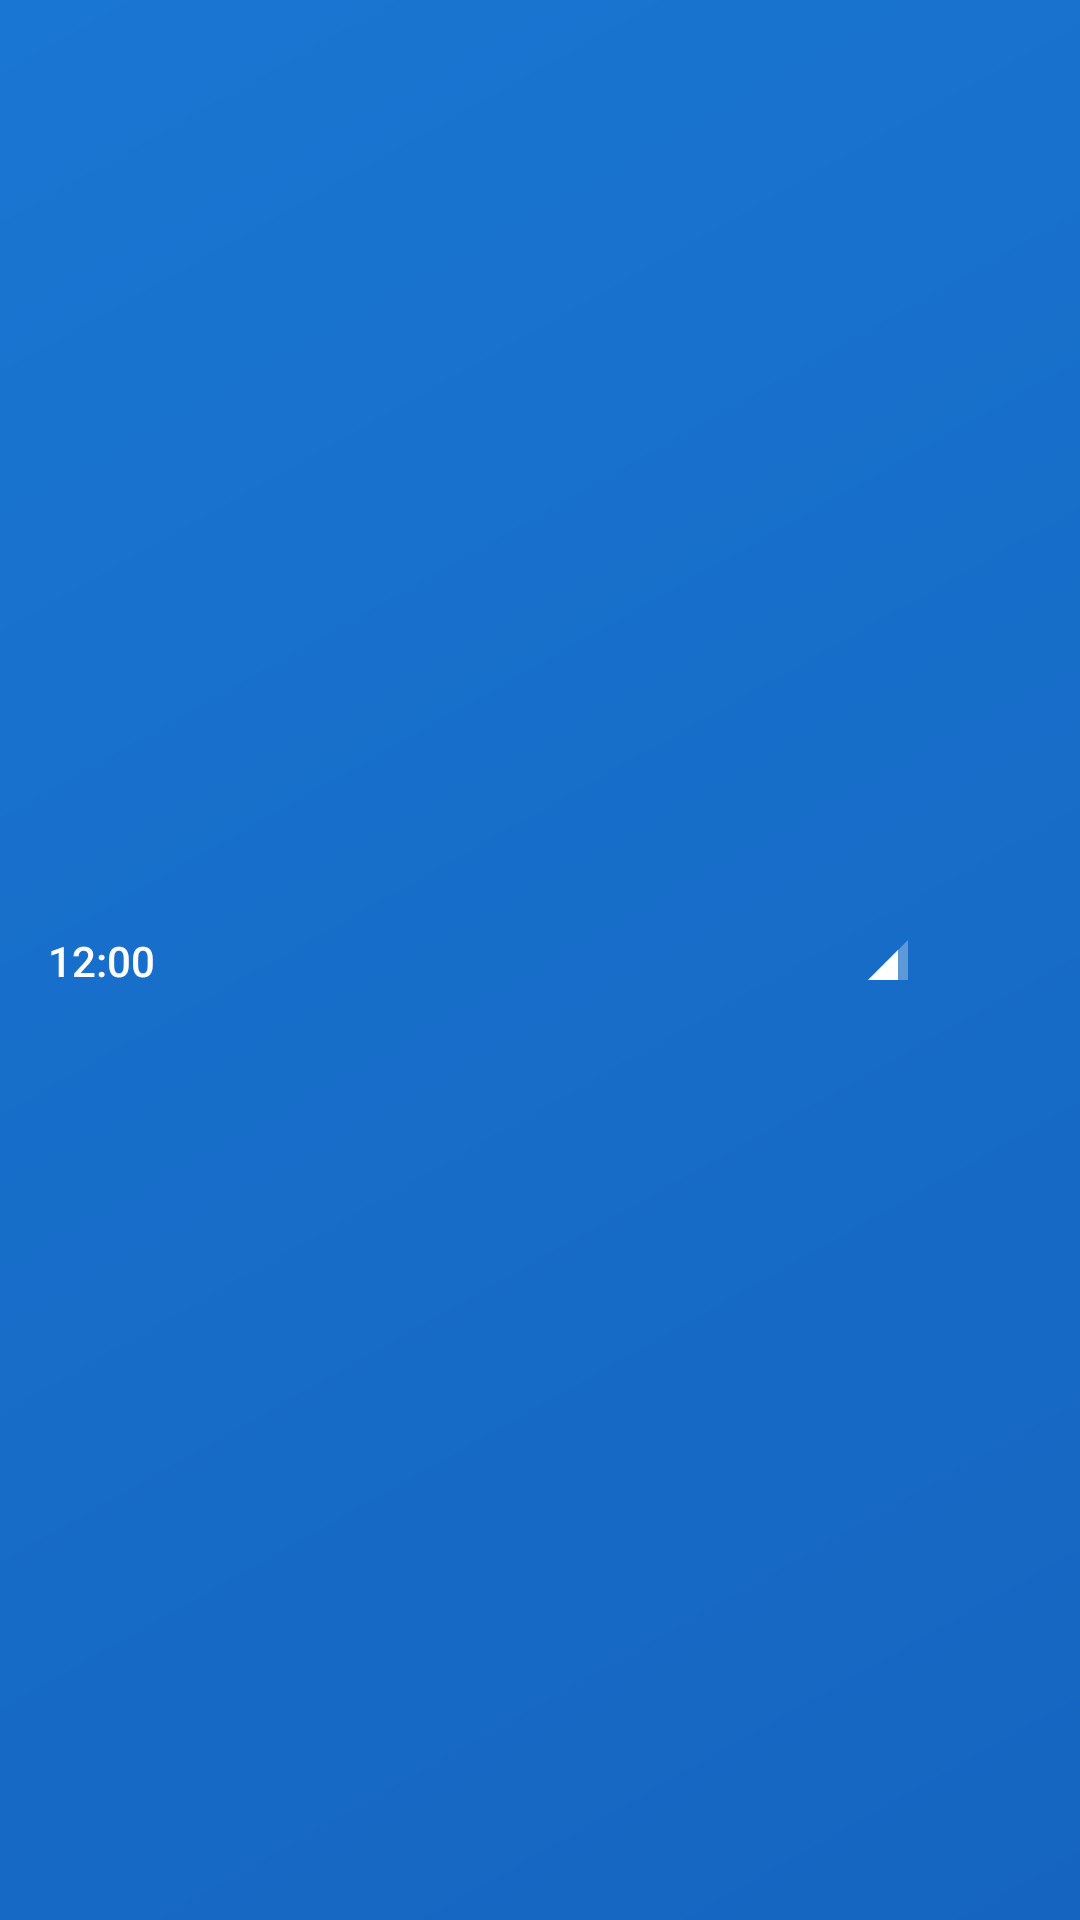

Icons on this 1080w x 1920h Android screen, each with its box as (x1, y1, x2, y2):
signal: (868, 940, 908, 980)
